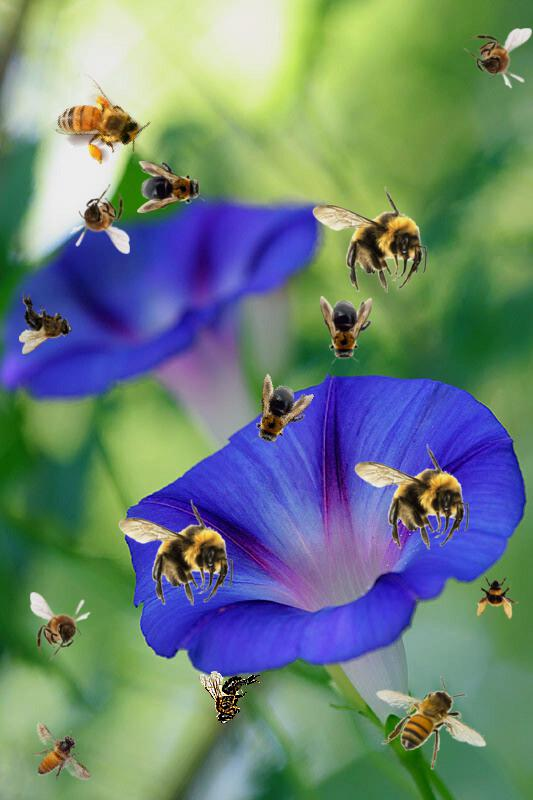Bee: (40, 66, 156, 179), (312, 186, 427, 293), (118, 499, 233, 606), (354, 443, 469, 550), (376, 676, 487, 770), (241, 373, 315, 457), (21, 711, 93, 796), (462, 28, 532, 89), (30, 592, 91, 662), (69, 184, 130, 254), (137, 161, 205, 213), (320, 296, 372, 364), (19, 292, 72, 354), (199, 671, 261, 724), (475, 575, 519, 619)
